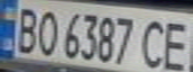3: (78, 9, 100, 62)
6: (57, 8, 84, 61)
7: (112, 12, 139, 66)
8: (93, 11, 118, 63)
B: (9, 3, 42, 54)
C: (136, 15, 175, 70)
E: (157, 16, 193, 72)
O: (33, 6, 60, 57)
